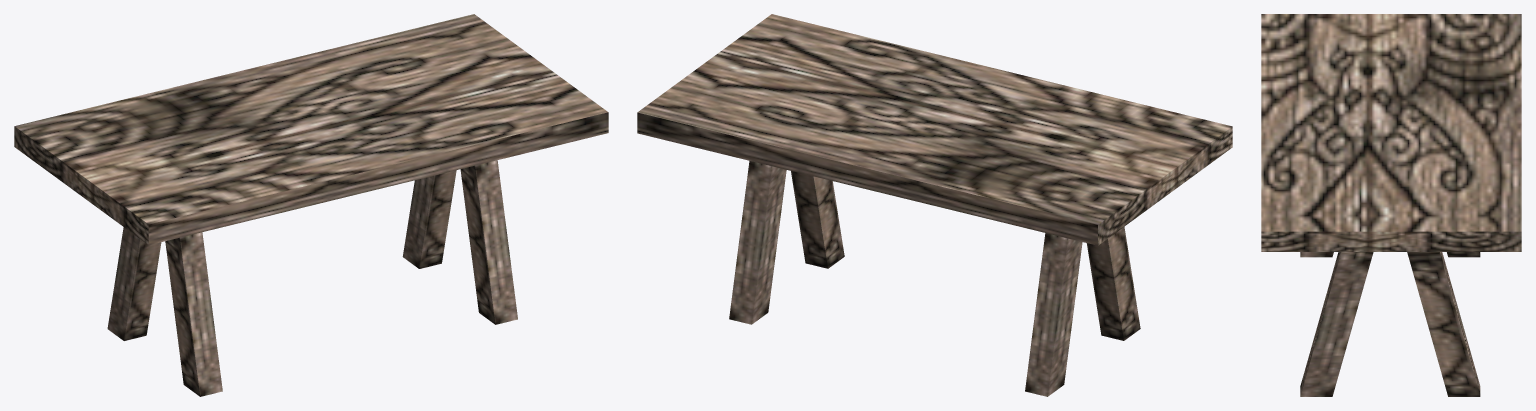
File: Furniture03.obj
3 renders of one model, left to right at view 1: azimuth 30°, elevation 25°; view 2: azimuth 150°, elevation 25°; view 3: azimuth 270°, elevation 25°, orthographic. The views are drawn at different scales.
Parts seen in each view (by area): view 1: Mesh_0; view 2: Mesh_0; view 3: Mesh_0.
Boxes of the visible parts, <box> form: Mesh_0: <box>14,14,608,396</box>; Mesh_0: <box>637,14,1232,396</box>; Mesh_0: <box>1261,14,1521,396</box>.
Size of the model in its own units: 2.03 by 0.8658 by 1.03.
Materials: 1 (1 with a texture image).
